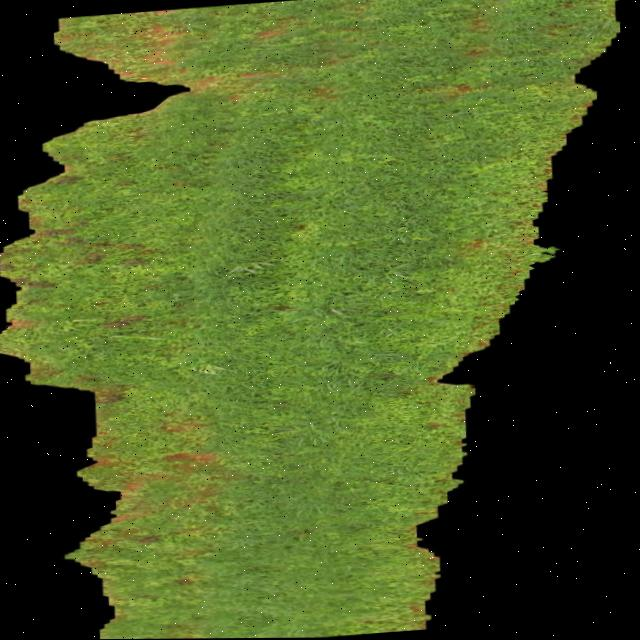Weed: (0, 0, 620, 639)
